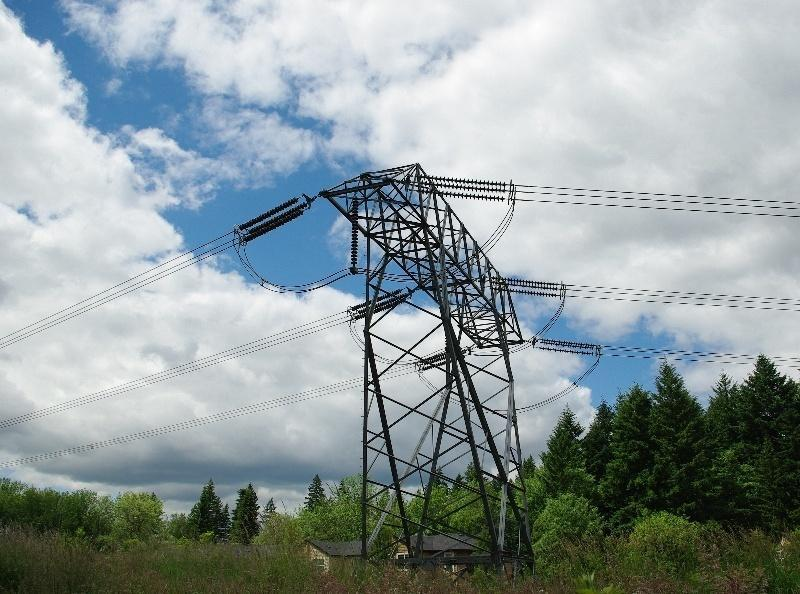power_tower: (234, 161, 600, 582)
